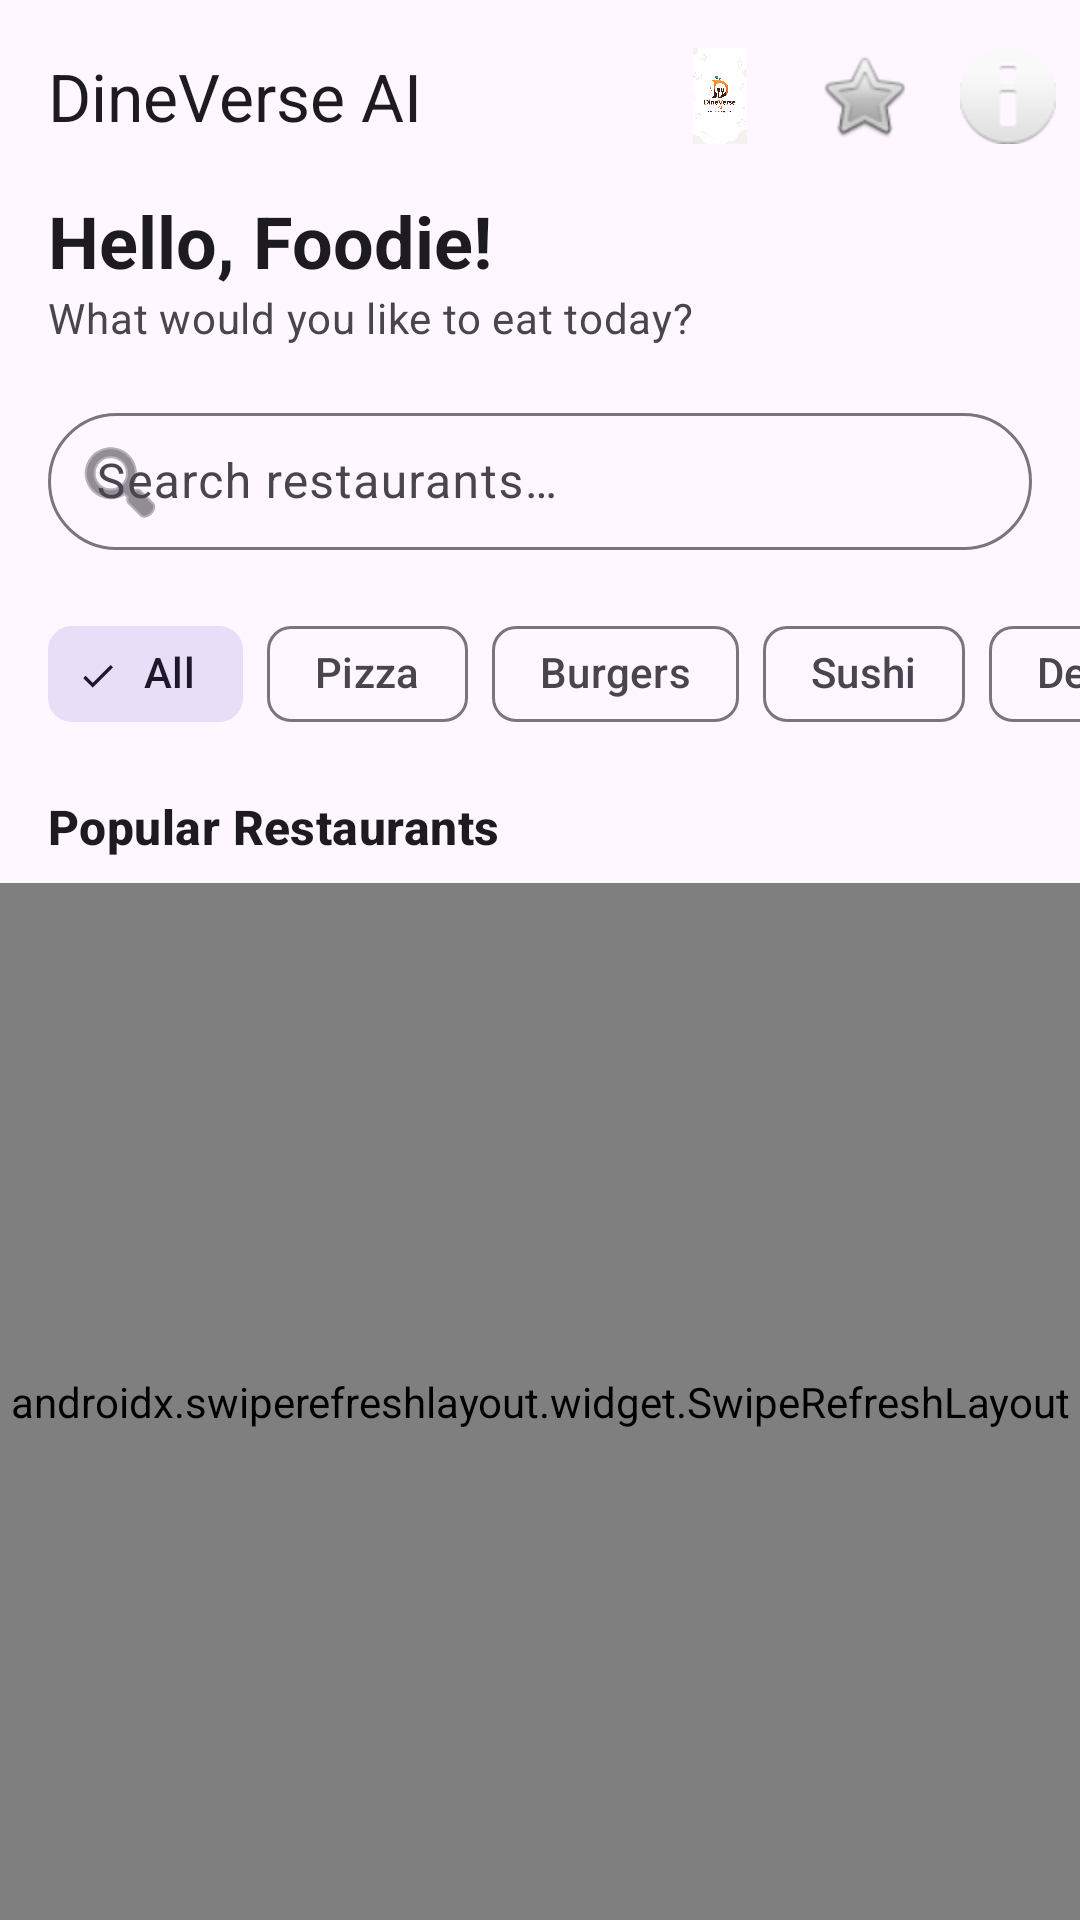

Screen size 1080px×1920px. Icon name, then its box in pixels as detection(x1, y1, x2, y2):
Favorites: detection(825, 58, 905, 136)
